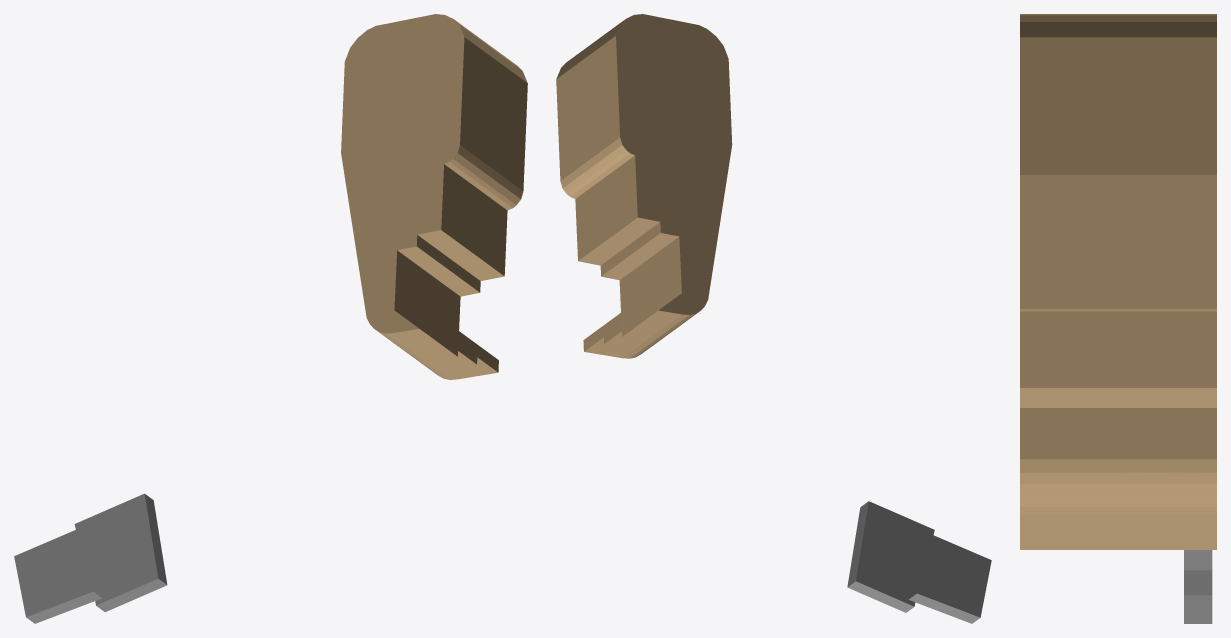
3 renders of one model, left to right at view 1: azimuth 30°, elevation 25°; view 2: azimuth 150°, elevation 25°; view 3: azimuth 270°, elevation 25°, orthographic. The views are drawn at different scales.
Parts seen in each view (by area): view 1: 0_3_2_0_1_0_0_2; view 2: 0_3_2_0_1_0_0_2; view 3: 0_3_2_0_1_0_0_2.
Boxes of the visible parts, box(x1,y1,x2,y2) form: 0_3_2_0_1_0_0_2: box(14, 14, 527, 623); 0_3_2_0_1_0_0_2: box(556, 14, 991, 623); 0_3_2_0_1_0_0_2: box(1020, 14, 1216, 623).
Size of the model in its own units: 86.33 by 93.12 by 21.
